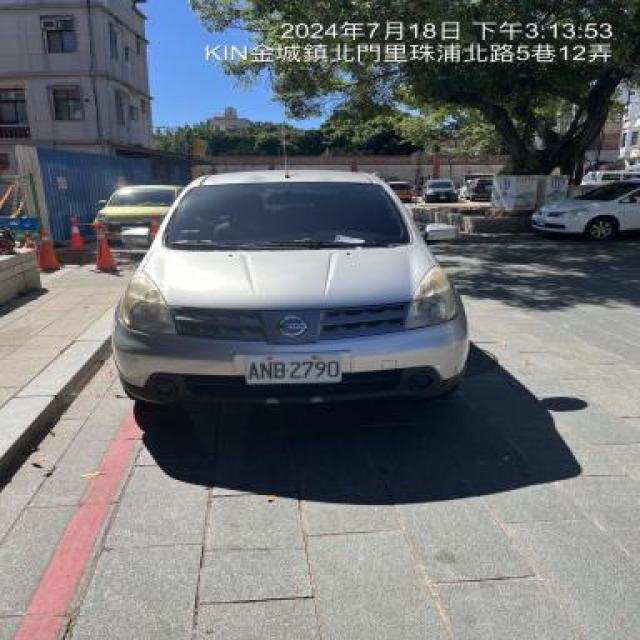Legalparking: (112, 170, 468, 402), (532, 180, 638, 238)
